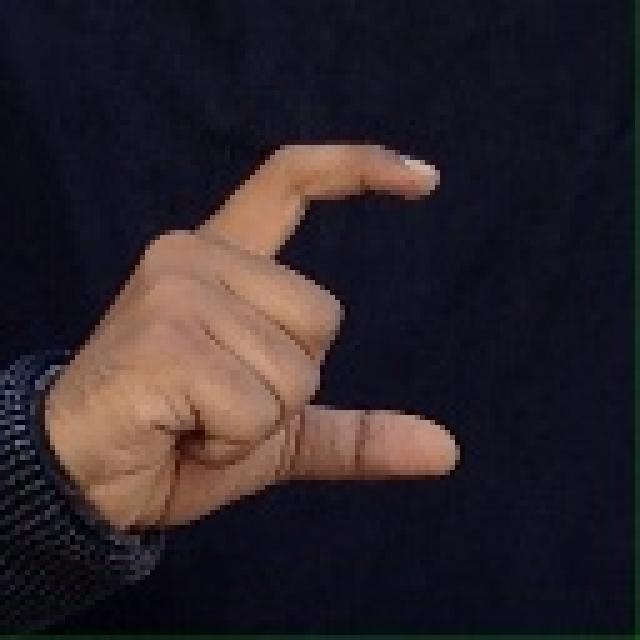Alphabet-C: (61, 133, 478, 522)
